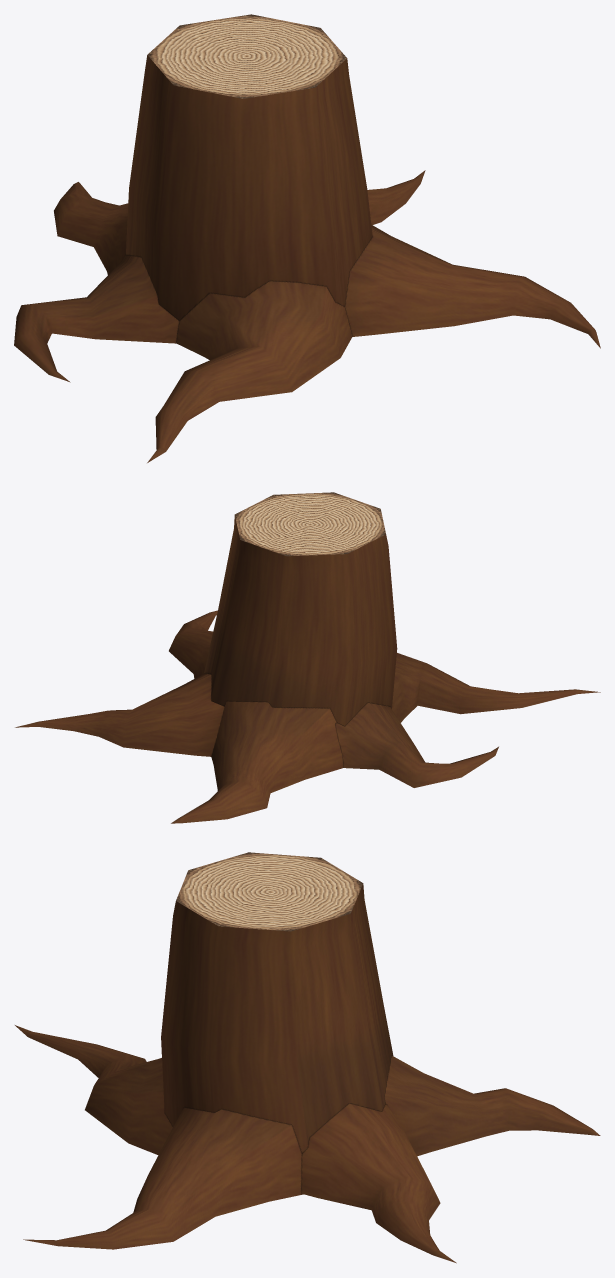
Rendered from DeadTree_Bottom.fbx.
The picture shows the model from 3 angles, top to bottom: view 1: azimuth 30°, elevation 25°; view 2: azimuth 150°, elevation 25°; view 3: azimuth 270°, elevation 25°; orthographic projection. The views are drawn at different scales.
Visible parts, largest first — view 1: Tree_Dead_Bottom; view 2: Tree_Dead_Bottom; view 3: Tree_Dead_Bottom.
Part boxes in pixels (box(x1,y1,x2,y2)): Tree_Dead_Bottom: box(14, 14, 600, 462); Tree_Dead_Bottom: box(15, 492, 600, 823); Tree_Dead_Bottom: box(15, 852, 600, 1263).
Size of the model in its own units: 124 by 58.67 by 129.
Materials: 1 (1 with a texture image).
